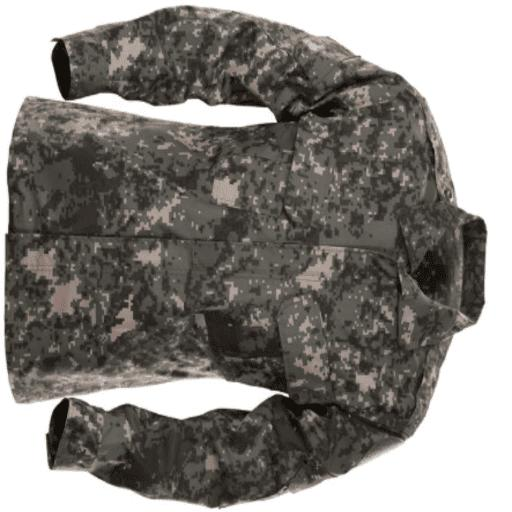korea army: (3, 4, 487, 509)
